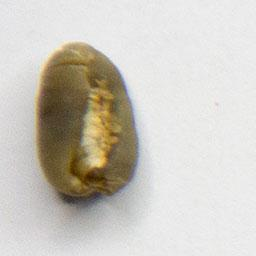peaberry: (33, 37, 144, 202)
